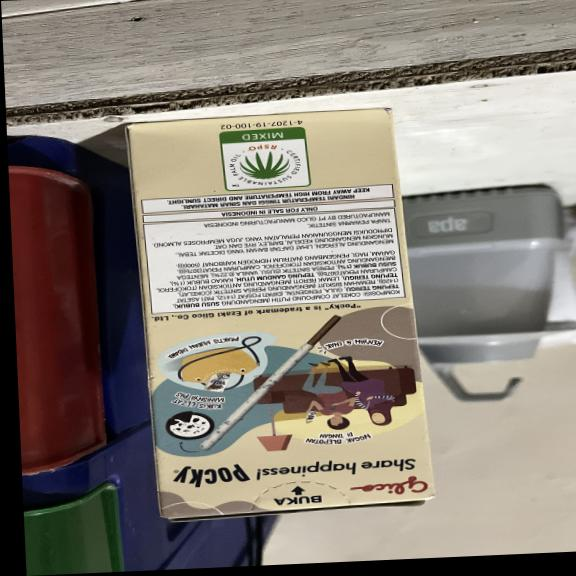Kertas: (119, 102, 434, 516)
